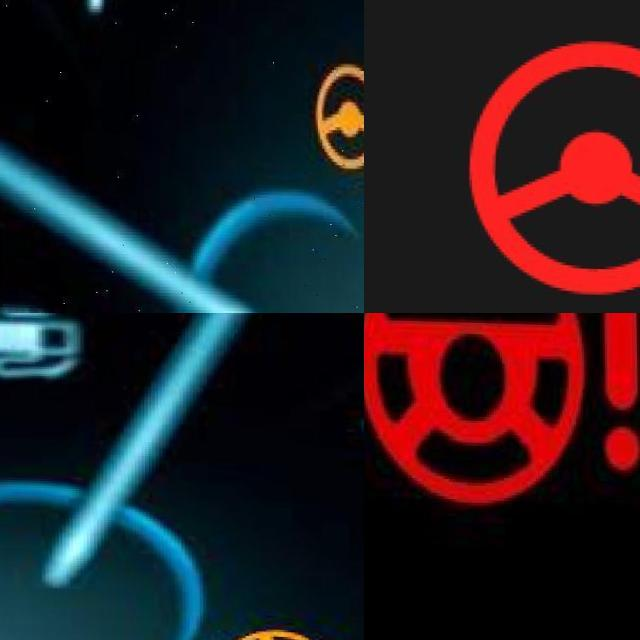Electronic Power Steering: (364, 313, 640, 507), (466, 32, 640, 299)
Electronic Power Steering Warning: (310, 56, 364, 173)
